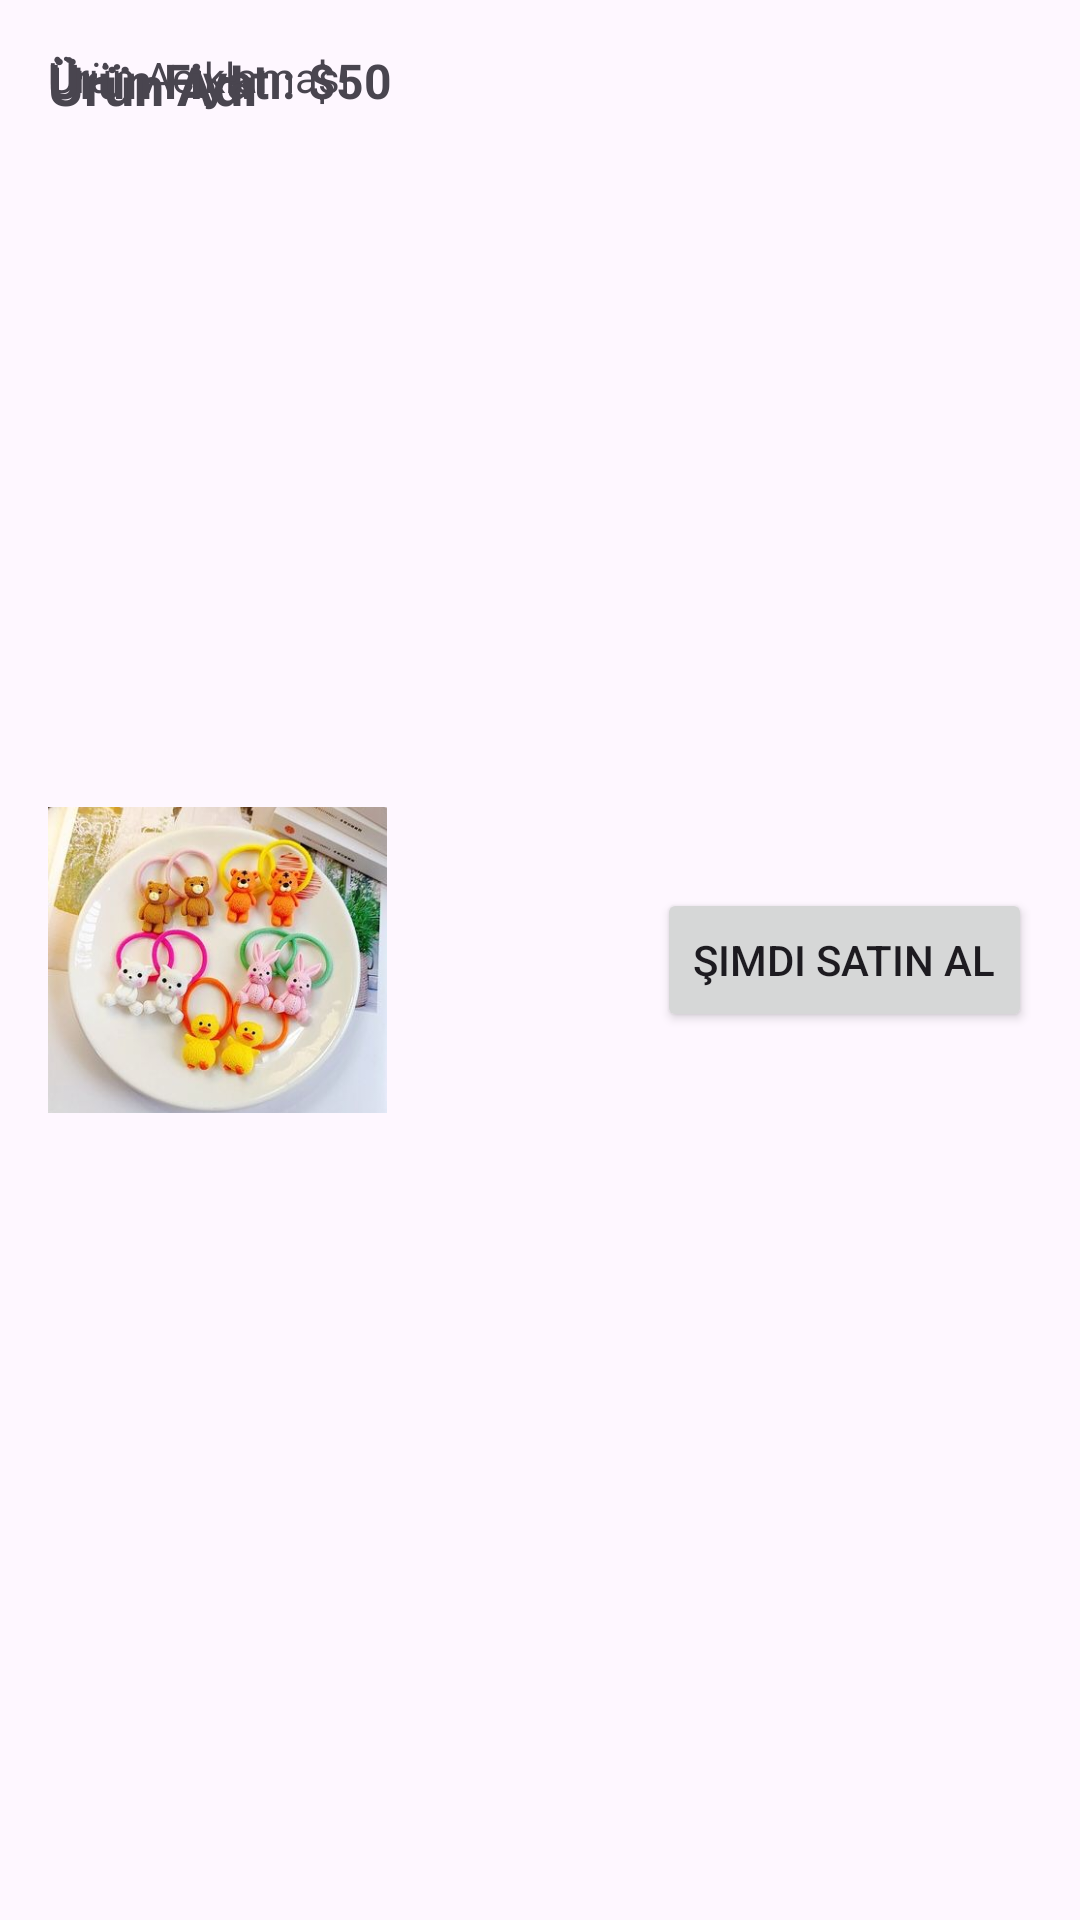

Where to tap for icons on this 1080 x 1920 app screen, as (x=x, y=y):
tokaurun: (x=217, y=960)
